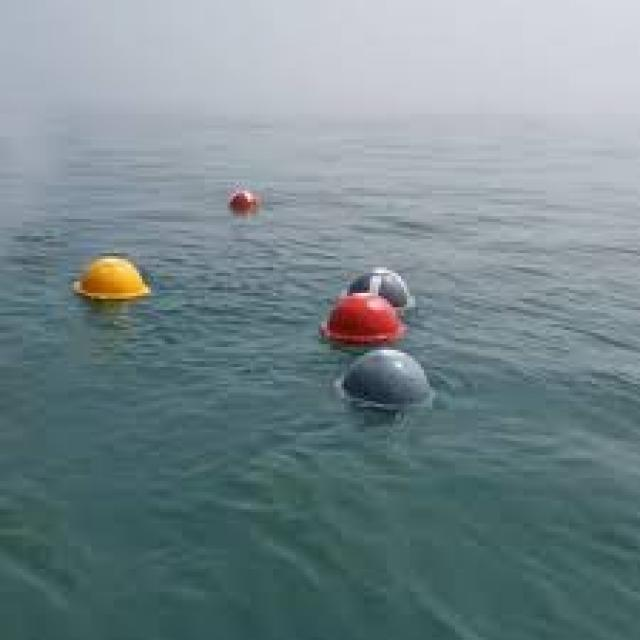buoy: (317, 353, 447, 422), (54, 245, 172, 302), (312, 300, 416, 344), (342, 267, 446, 309), (220, 188, 264, 205)
